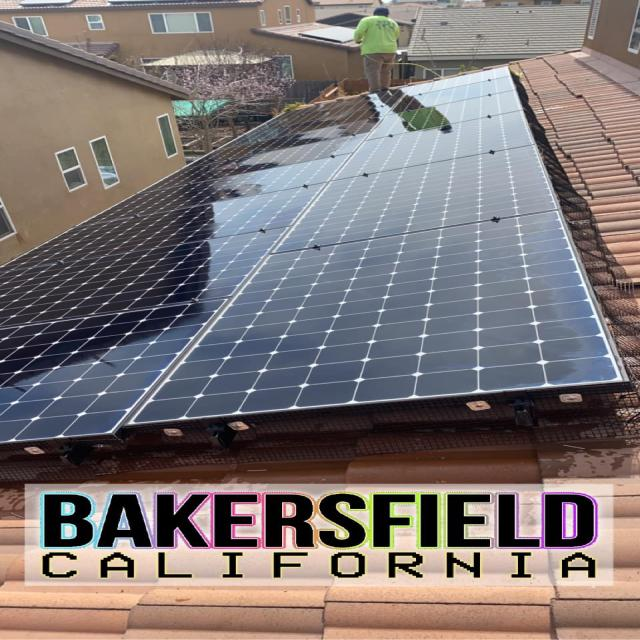clean-solar-panel: (2, 69, 625, 442)
